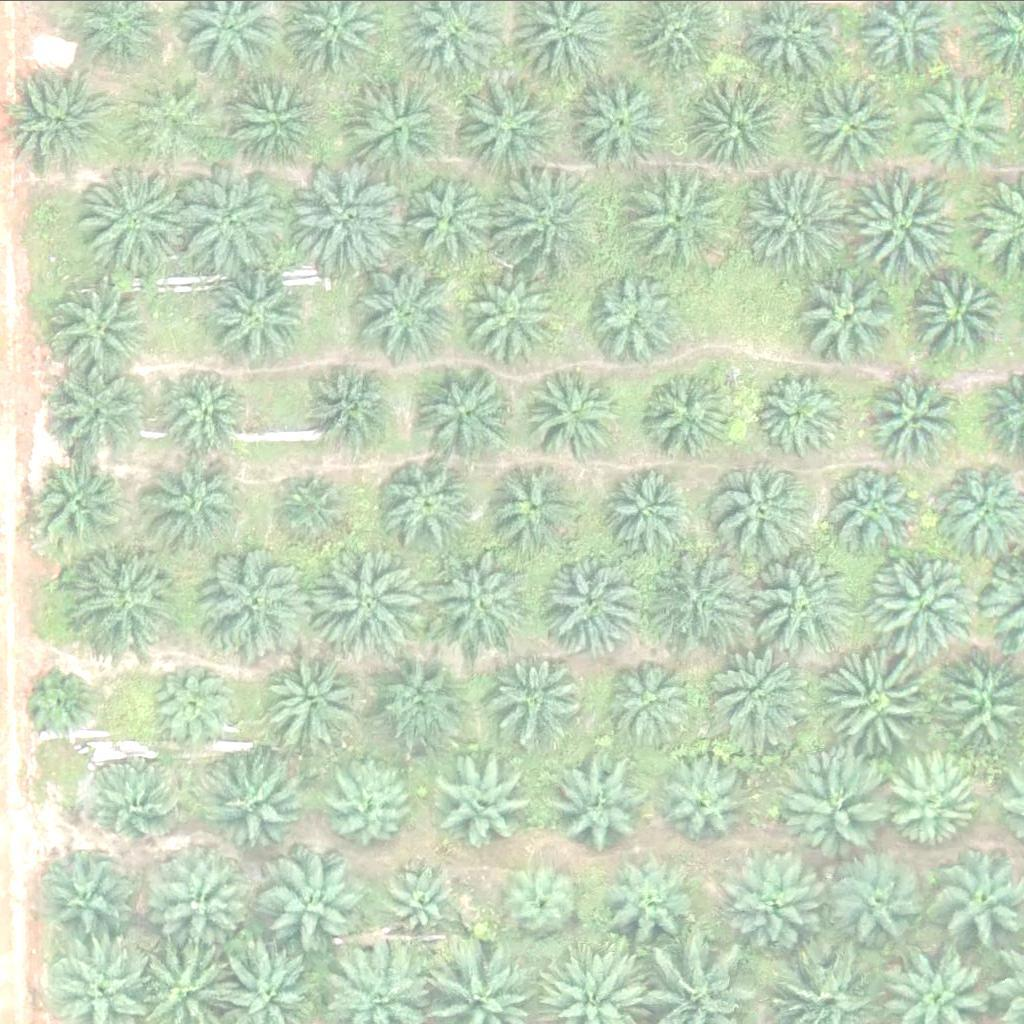Kelapa_Sawit: (699, 641, 813, 754), (318, 549, 432, 662), (747, 547, 861, 660), (76, 160, 190, 273), (493, 163, 607, 276), (629, 159, 743, 272), (201, 549, 314, 662), (641, 544, 754, 657), (296, 164, 409, 277), (741, 166, 854, 279), (342, 66, 455, 179), (5, 62, 118, 175), (848, 163, 961, 276), (867, 551, 980, 664), (826, 648, 939, 760), (68, 547, 181, 659), (183, 159, 296, 271), (452, 67, 565, 179), (729, 857, 830, 957), (151, 851, 252, 951), (43, 850, 144, 950), (780, 764, 881, 864), (259, 651, 360, 751), (438, 553, 539, 653), (547, 551, 648, 651), (482, 453, 583, 553), (33, 446, 134, 546), (527, 364, 628, 464), (798, 264, 899, 364), (591, 269, 692, 369), (466, 266, 567, 366), (358, 258, 459, 358), (208, 264, 309, 364), (49, 277, 150, 377), (405, 173, 506, 273), (686, 68, 787, 168), (569, 68, 670, 168), (224, 70, 325, 170), (907, 76, 1008, 176), (261, 848, 361, 948), (209, 753, 309, 853), (426, 750, 526, 850), (542, 752, 642, 852), (827, 857, 927, 957), (598, 654, 698, 754), (485, 647, 585, 747), (377, 648, 477, 748), (709, 453, 809, 553), (377, 454, 477, 554), (51, 358, 151, 458), (304, 353, 404, 453), (420, 360, 520, 460), (641, 360, 741, 460), (830, 461, 930, 561), (800, 72, 900, 172), (908, 262, 1008, 362), (864, 367, 964, 467), (152, 658, 241, 746), (505, 857, 593, 945), (381, 853, 469, 941), (326, 764, 414, 852), (751, 369, 839, 457), (893, 758, 981, 846), (610, 860, 699, 947), (159, 362, 248, 449), (130, 75, 219, 162), (99, 758, 187, 845), (659, 757, 747, 844), (607, 470, 695, 557), (158, 459, 246, 546), (280, 470, 356, 545), (26, 664, 101, 739)
